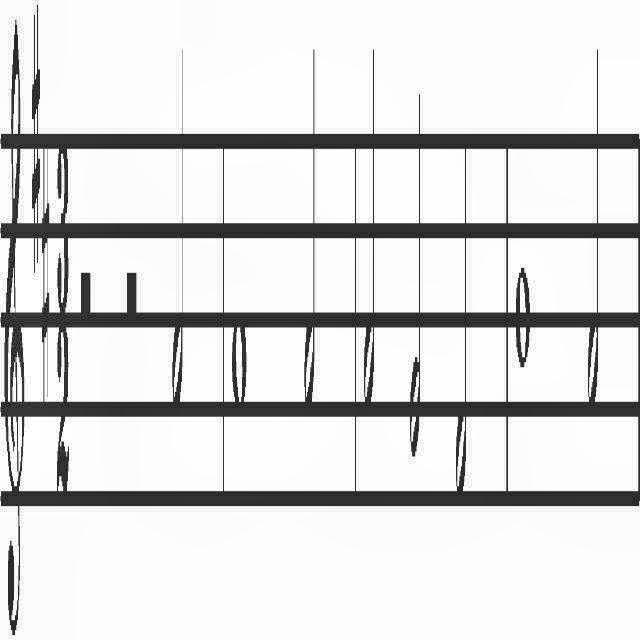Bass-clef: (5, 12, 25, 640)
Diez: (32, 0, 40, 268), (42, 146, 50, 392)
Full-note: (230, 312, 248, 420), (514, 256, 530, 374)
Half-note: (408, 42, 424, 468), (170, 22, 186, 418), (454, 100, 468, 512), (363, 30, 377, 430), (586, 30, 600, 418), (304, 30, 316, 424)
